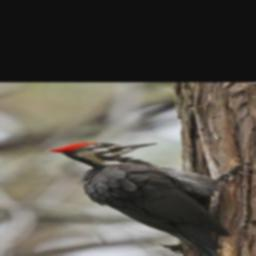Woodpecker: (47, 141, 253, 256)
